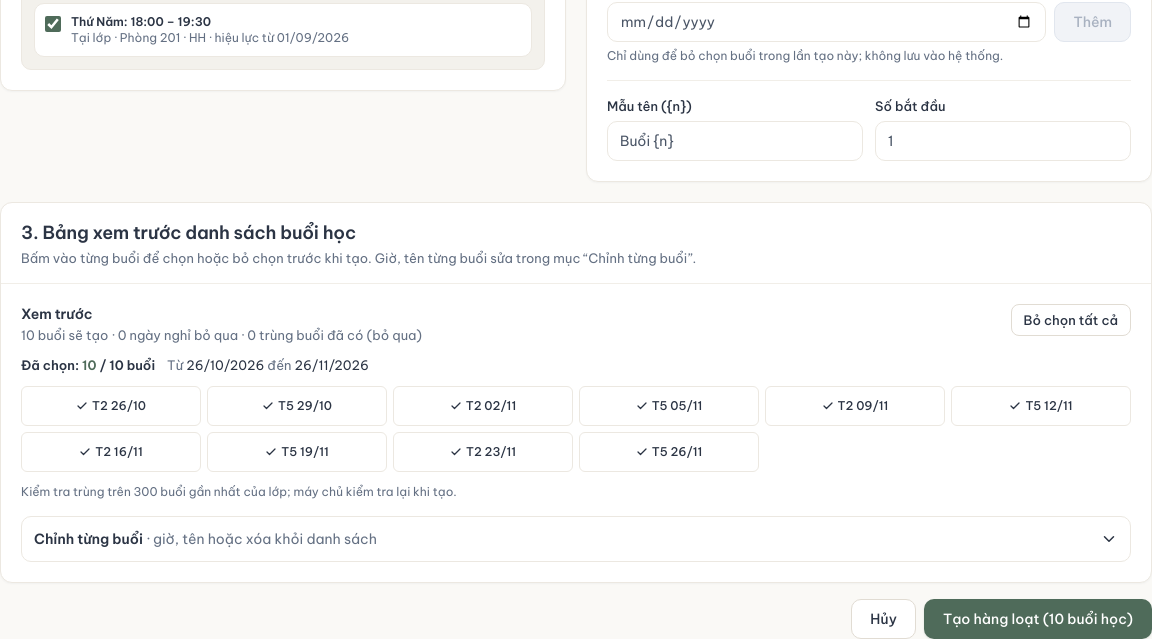
Test: BatchSessionCreateWorkspace › allows deselecting a session before batch creation
(page scrolled)
Uncheck the first row
What coordinates should you click on to do the following:
click the checkbox named "Chọn buổi học ngày"
I would click on:
 (111, 406)
Its box is [21,386,201,426].
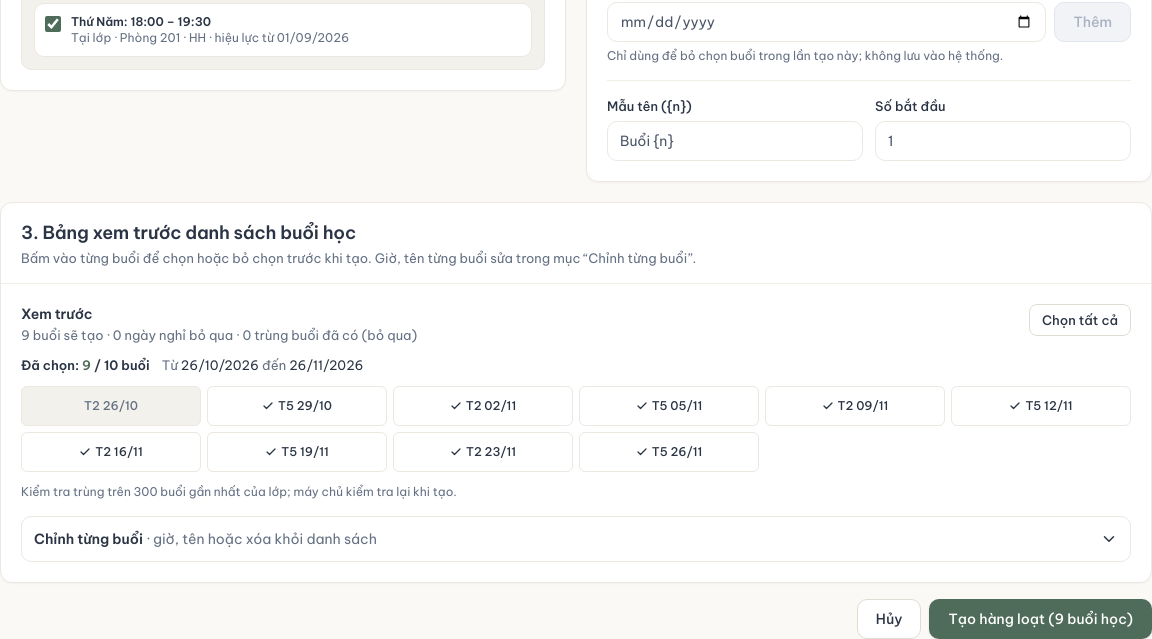
Result: the text "Đã chọn: 9 / 10 buổi" is shown at [21,356,150,374]
Click submit button to open confirmation dialog
What coordinates should you click on to do the following:
click the button "Tạo hàng loạt (9 buổi học)"
I would click on:
 (1041, 619)
Its box is [929,599,1151,638].
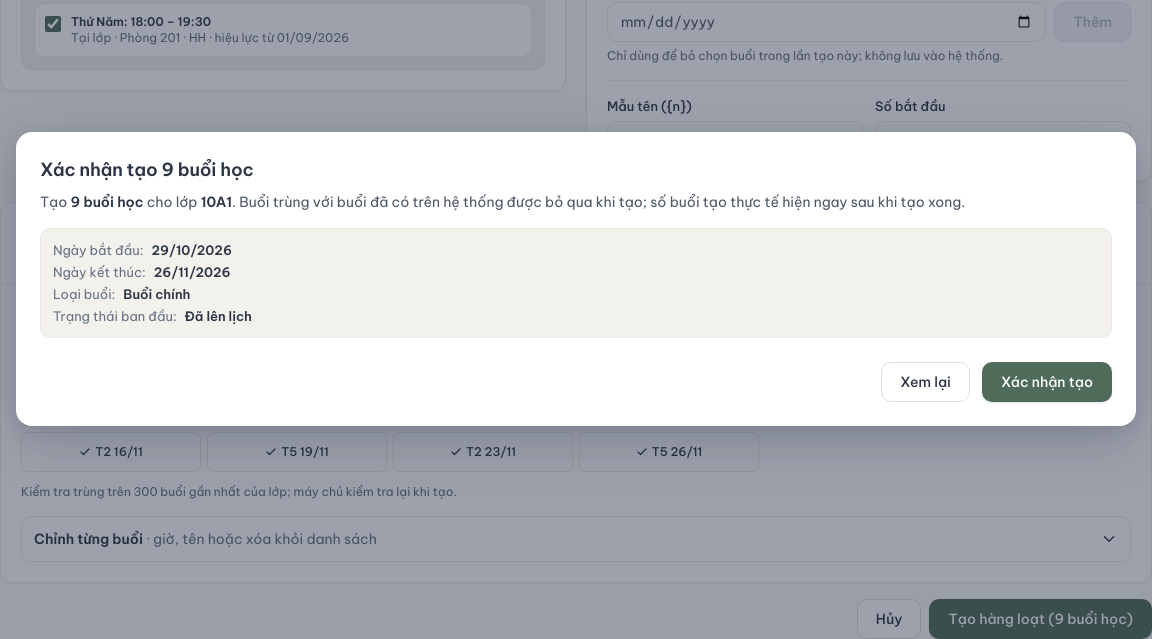
Result: the dialog is shown at [16,132,1136,426]
Result: the heading "Xác nhận tạo 9 buổi học" is shown at [40,158,254,181]
Confirm creation
What coordinates should you click on to do the following:
click the button "Xác nhận tạo"
I would click on:
 (1047, 382)
Its box is [982,362,1112,402].
(page scrolled)
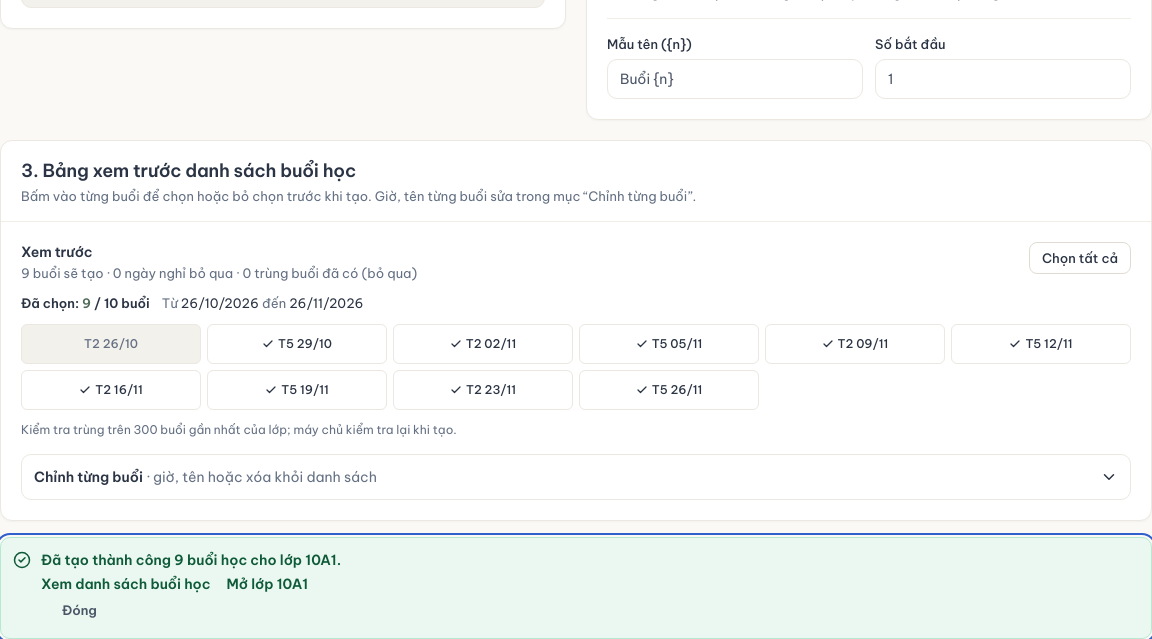
Result: the text "Đã tạo thành công 9 buổi học cho lớp 10A1." is shown at [41,551,341,569]
